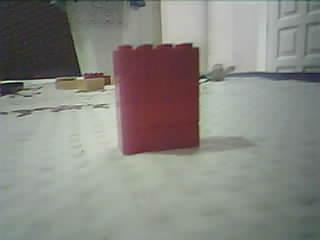lego: (111, 42, 199, 156)
